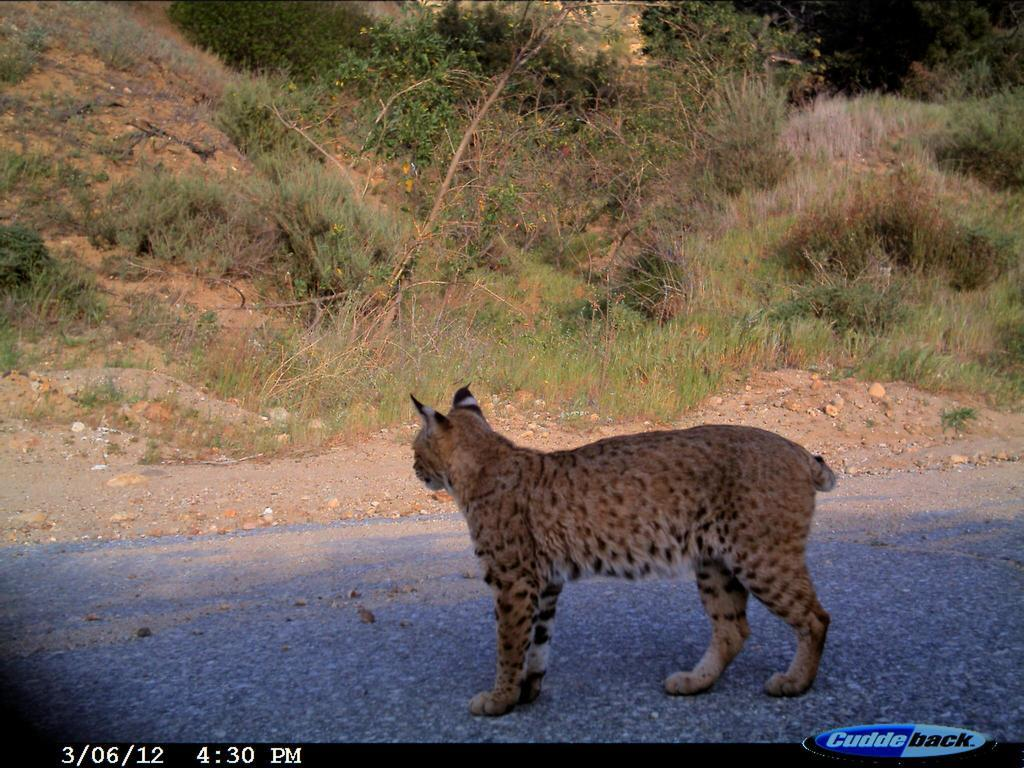bobcat: (410, 374, 839, 719)
